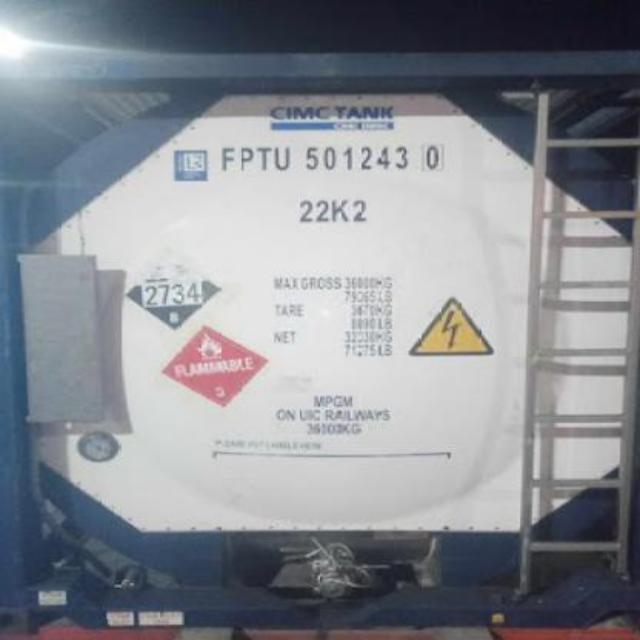0: (320, 146, 340, 170), (424, 146, 442, 168)
1: (340, 146, 356, 170)
2: (356, 146, 374, 170)
3: (394, 145, 410, 171)
4: (374, 146, 394, 170)
5: (306, 146, 320, 170)
F: (220, 146, 236, 172)
P: (236, 146, 256, 172)
T: (254, 144, 274, 174)
U: (274, 144, 294, 174)
